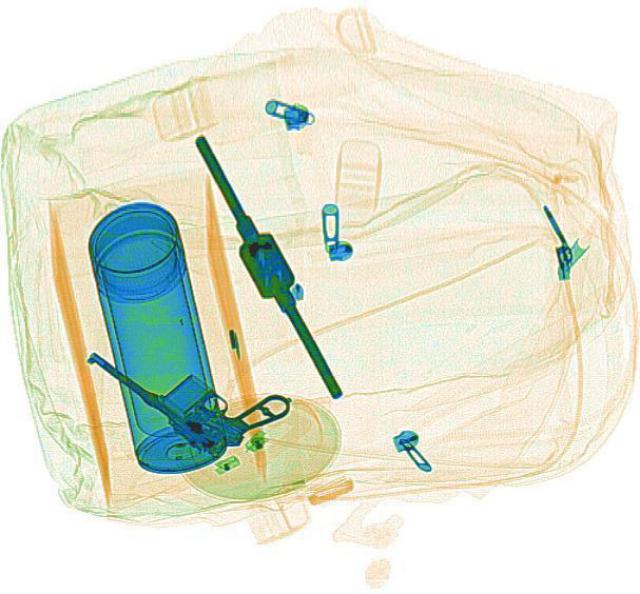Gun: (78, 296, 296, 470)
